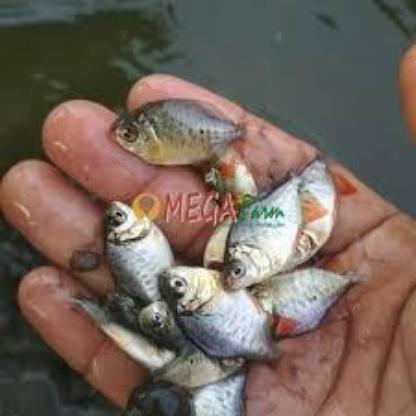ikan-pacu: (163, 266, 271, 358), (225, 172, 306, 280), (116, 97, 238, 168), (98, 198, 171, 304)
